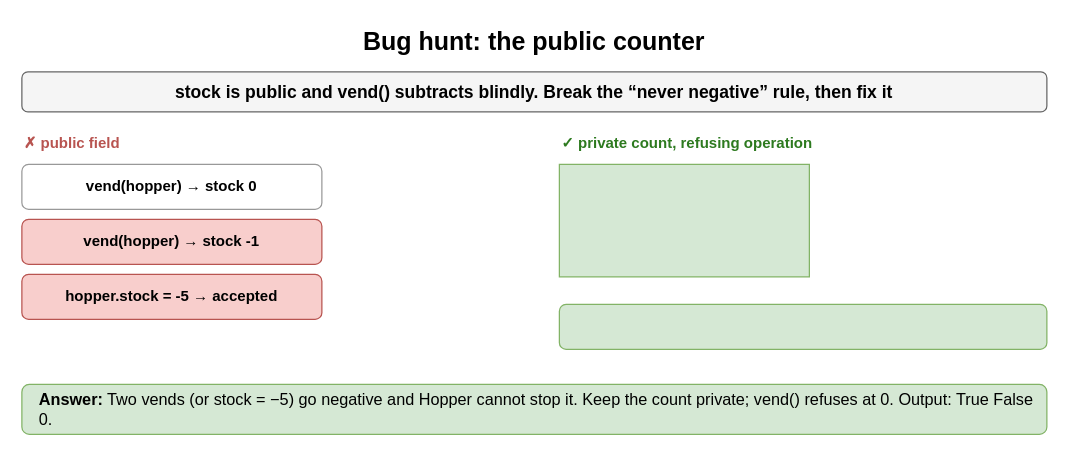
Image size: 1069x456. Some labels were removed from this diagram. The shapes that lost their labels are listed below. From the top down, each one's box as (x1, y1, x2, y2) in pixels, then its label:
(558, 163, 809, 277): Hopper - _stock + stock (read-only) + vend() -> bool
(558, 303, 1047, 349): Hopper(1): vend() → True, vend() → False, stock → 0
